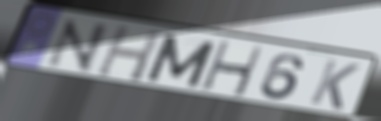6: (260, 53, 306, 101)
H: (93, 23, 165, 84), (198, 40, 266, 100)
K: (306, 57, 363, 112)
M: (142, 32, 219, 90)
N: (43, 17, 112, 75)
